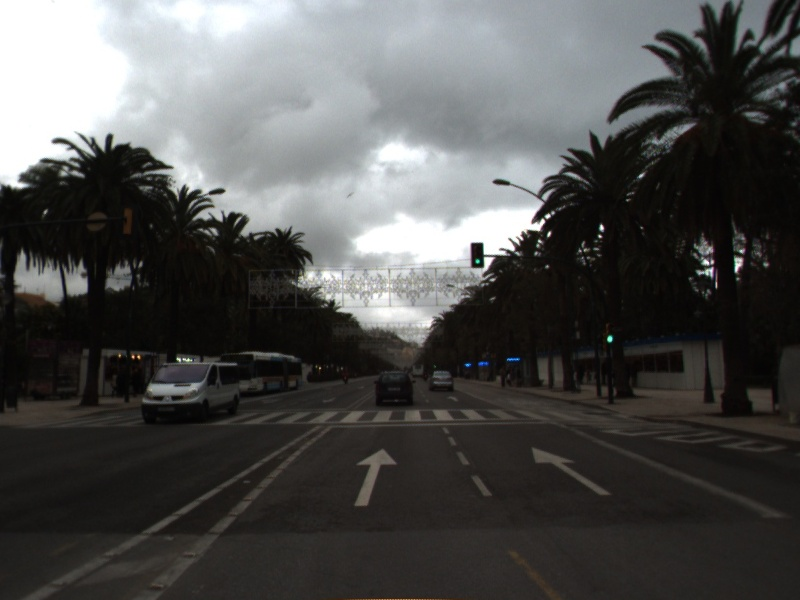STRAIGHT: (530, 445, 615, 497), (352, 446, 399, 508), (445, 393, 460, 403)
